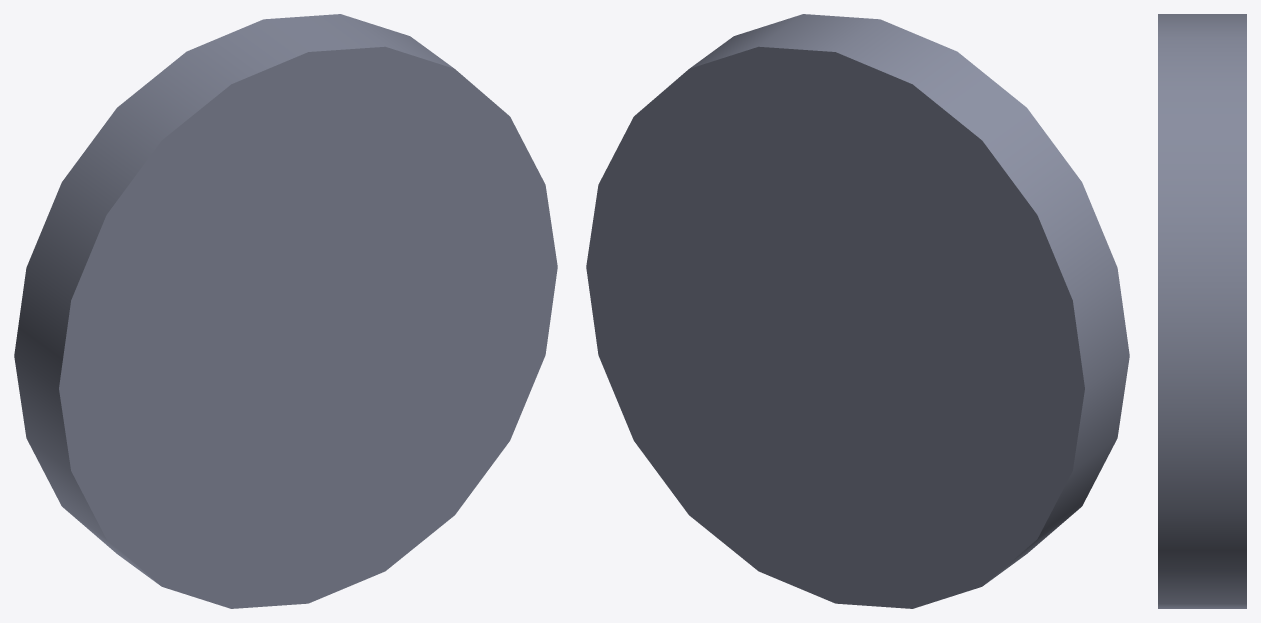
File: PipeRing.fbx
The picture shows the model from 3 angles, left to right: view 1: azimuth 30°, elevation 25°; view 2: azimuth 150°, elevation 25°; view 3: azimuth 270°, elevation 25°; orthographic projection.
Visible parts, largest first — view 1: PipeRing; view 2: PipeRing; view 3: PipeRing.
Part boxes in pixels (x1,y1,x2,y2): PipeRing: (14,14,557,608); PipeRing: (586,14,1129,608); PipeRing: (1158,14,1246,608).
Bounding box in the file's own units: 2.78 × 2.94 × 0.4318.
